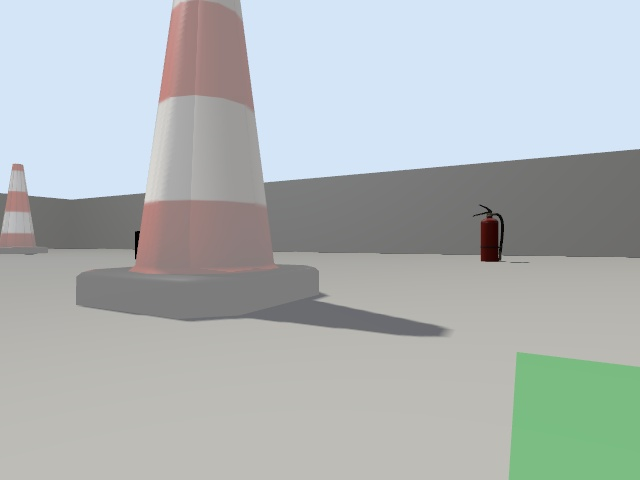cone_chantier: (77, 0, 318, 318), (0, 164, 47, 253)
extincteur: (473, 204, 503, 261)
